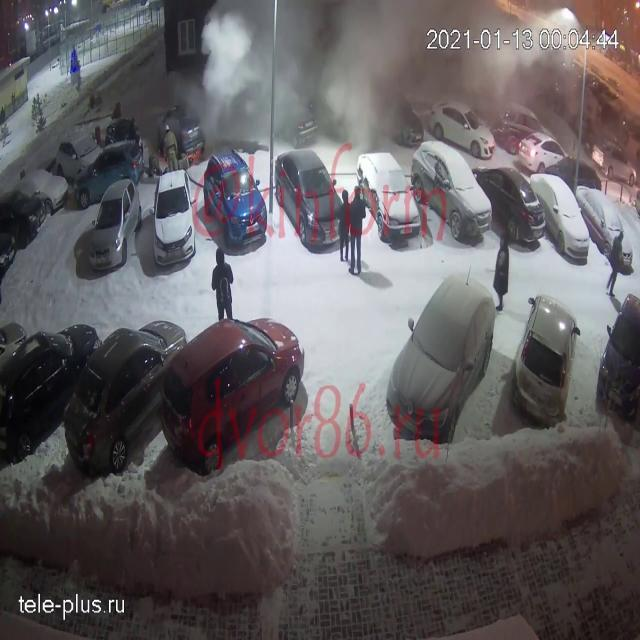Smoke: (185, 0, 630, 142)
